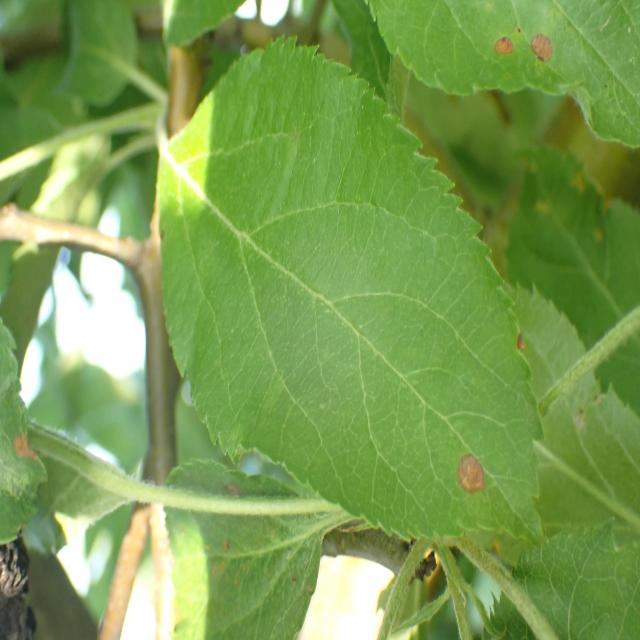Black Rot: (430, 432, 494, 514), (520, 8, 567, 80), (485, 14, 521, 66)
